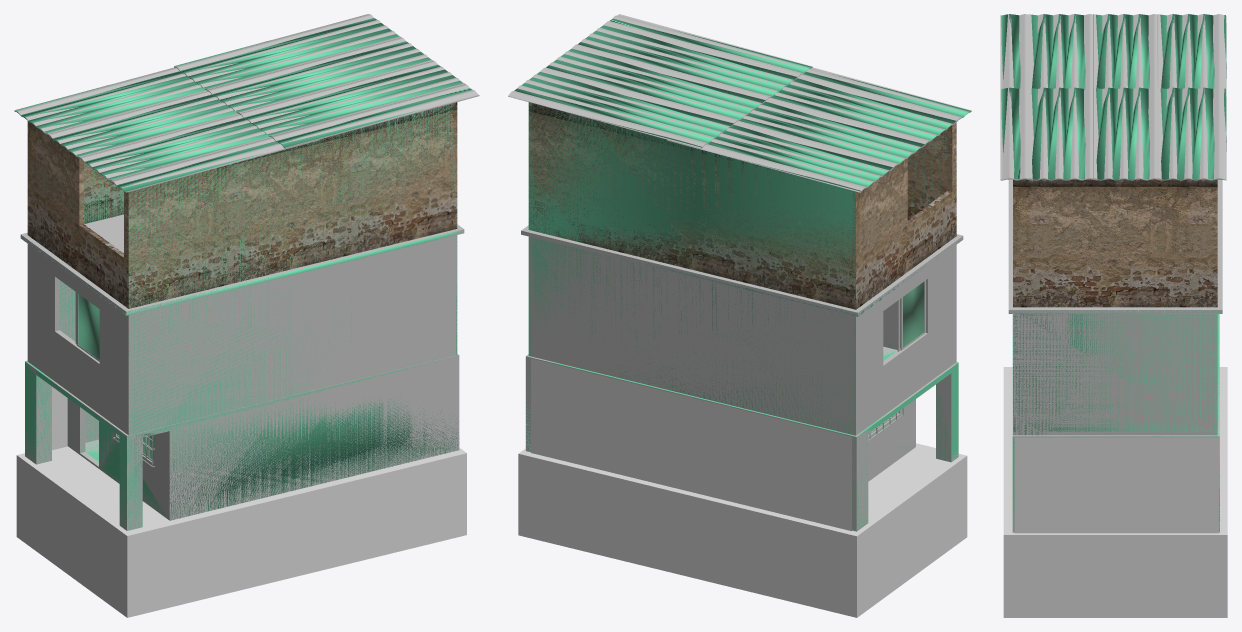
Rendered from CASA 24.fbx.
The picture shows the model from 3 angles, left to right: view 1: azimuth 30°, elevation 25°; view 2: azimuth 150°, elevation 25°; view 3: azimuth 270°, elevation 25°; orthographic projection.
Visible parts, largest first — view 1: CASA24_LOD0, UTM_CASA24, Cube_LOD0, OCC_Oclusion1; view 2: CASA24_LOD0, UTM_CASA24, Cube_LOD0, OCC_Oclusion1; view 3: CASA24_LOD0, UTM_CASA24, Cube_LOD0, OCC_Oclusion2.
Boxes of the visible parts, left/top/right/bottom form: CASA24_LOD0: left=14, top=14, right=479, bottom=530; UTM_CASA24: left=15, top=18, right=472, bottom=530; Cube_LOD0: left=16, top=446, right=466, bottom=617; OCC_Oclusion1: left=52, top=387, right=67, bottom=450; CASA24_LOD0: left=508, top=14, right=971, bottom=531; UTM_CASA24: left=514, top=18, right=970, bottom=530; Cube_LOD0: left=518, top=443, right=967, bottom=617; OCC_Oclusion1: left=531, top=358, right=851, bottom=531; CASA24_LOD0: left=1000, top=14, right=1226, bottom=532; UTM_CASA24: left=1001, top=14, right=1226, bottom=531; Cube_LOD0: left=1003, top=367, right=1227, bottom=617; OCC_Oclusion2: left=1014, top=437, right=1218, bottom=533.
Size of what is drawn, in the model's own units: 904 by 1073 by 497.
